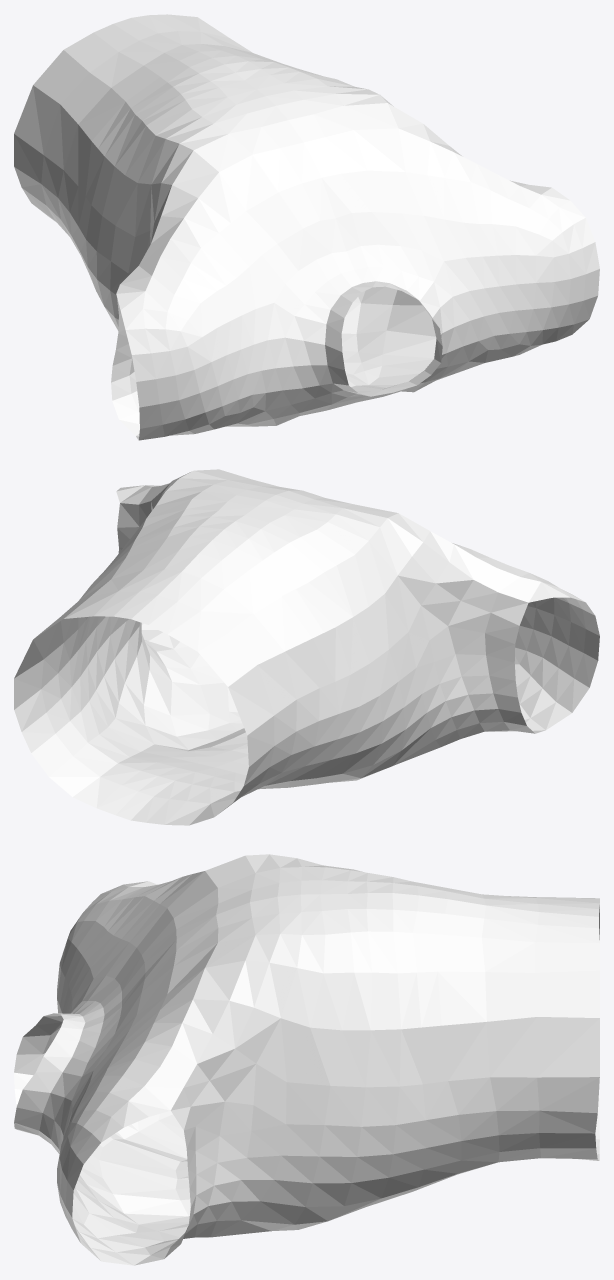
The model's file is torso_w_specula.dae.
3 renders of one model, top to bottom at view 1: azimuth 30°, elevation 25°; view 2: azimuth 150°, elevation 25°; view 3: azimuth 270°, elevation 25°, orthographic. The views are drawn at different scales.
Visible parts, largest first — view 1: node; view 2: node; view 3: node.
Boxes of the visible parts, x1,y1,x2,y2 form: node: [14, 14, 599, 440]; node: [14, 469, 599, 825]; node: [14, 854, 599, 1265].
Size of the model in its own units: 0.4905 by 0.269 by 0.4845.
Materials: 1 (1 with a texture image).
